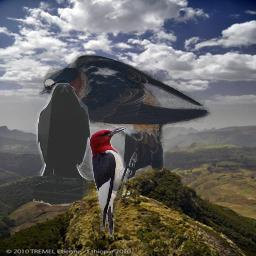Crow: (33, 83, 93, 206)
Swallow: (39, 52, 212, 181)
Woodpecker: (89, 126, 137, 240)
